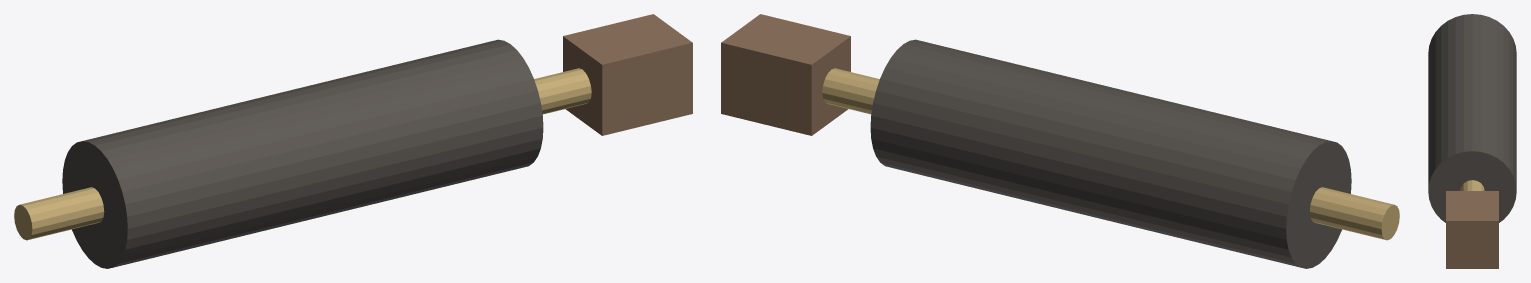
The model's file is yin_roller.glb.
The picture shows the model from 3 angles, left to right: view 1: azimuth 30°, elevation 25°; view 2: azimuth 150°, elevation 25°; view 3: azimuth 270°, elevation 25°; orthographic projection. The views are drawn at different scales.
Visible parts, largest first — view 1: world; view 2: world; view 3: world.
Part boxes in pixels (left/top/right/bottom): world: left=14, top=14, right=692, bottom=268; world: left=721, top=14, right=1399, bottom=268; world: left=1428, top=14, right=1516, bottom=268.
Bounding box in the file's own units: 0.86 × 0.15 × 0.15.
